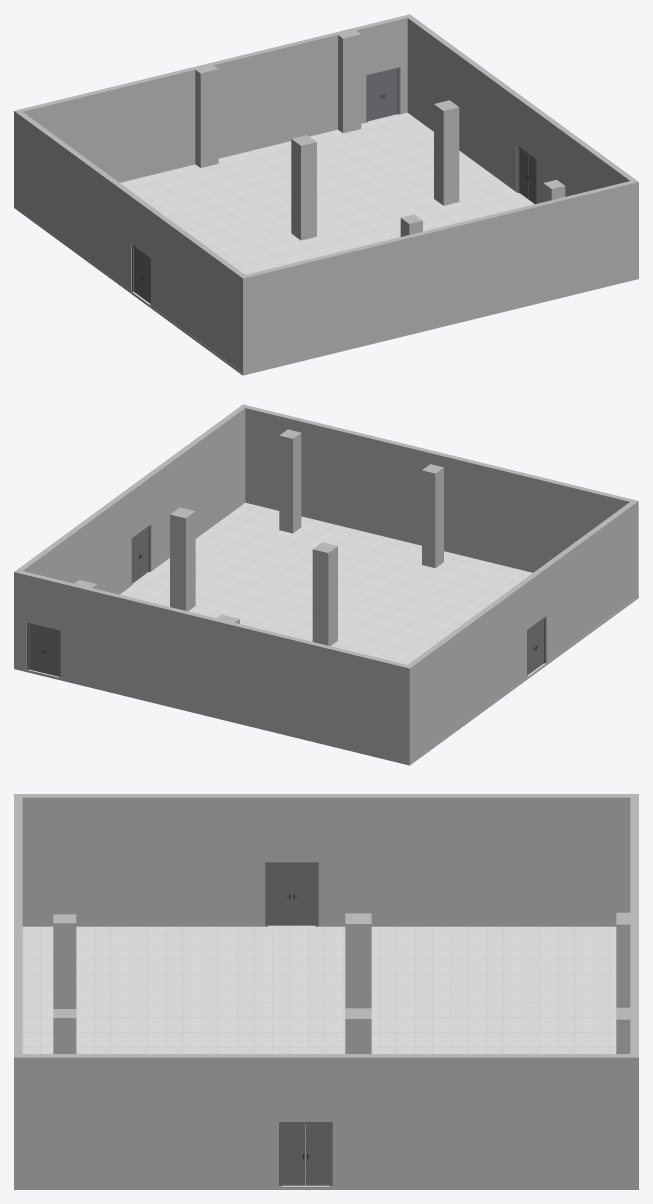
The model's file is floorFourChilder.FBX.
3 renders of one model, top to bottom at view 1: azimuth 30°, elevation 25°; view 2: azimuth 150°, elevation 25°; view 3: azimuth 270°, elevation 25°, orthographic. The views are drawn at different scales.
Visible parts, largest first — view 1: Line005, Line004, 对象, Line006, Rectangle271, Rectangle273, Rectangle274, Rectangle275, Line051, Rectangle276, Rectangle256, Rectangle269 (+2 smaller); view 2: Line005, Line004, 对象, Line006, Rectangle271, Rectangle273, Rectangle272, Rectangle270, Line051, Rectangle276, Rectangle256, Rectangle269 (+2 smaller); view 3: 对象, Line005, Line004, Line006, Rectangle269, Rectangle256, 左 (×2), Rectangle271, Line051, Rectangle270, 右, 右001 (+6 smaller).
Boxes of the visible parts, box(x1,y1,x2,y2) form: Line005: box(151, 111, 638, 373); Line004: box(14, 26, 366, 291); 对象: box(120, 112, 534, 372); Line006: box(397, 14, 521, 192); Rectangle271: box(291, 135, 316, 240); Rectangle273: box(434, 100, 459, 205); Rectangle274: box(338, 30, 361, 133); Rectangle275: box(195, 65, 218, 167); Line051: box(14, 206, 638, 375); Rectangle276: box(363, 17, 400, 75); Rectangle256: box(516, 96, 541, 158); Rectangle269: box(131, 195, 155, 257); Line005: box(146, 404, 638, 662); Line004: box(60, 581, 526, 763); 对象: box(27, 502, 637, 677); Line006: box(14, 490, 131, 669); Rectangle271: box(312, 542, 337, 645); Rectangle273: box(170, 507, 195, 611); Rectangle272: box(279, 429, 301, 533); Rectangle270: box(422, 464, 443, 568); Line051: box(14, 596, 638, 765); Rectangle276: box(26, 573, 63, 630); Rectangle256: box(126, 475, 151, 537); Rectangle269: box(522, 567, 546, 629); 对象: box(22, 925, 616, 1186); Line005: box(14, 794, 278, 1186); Line004: box(318, 794, 638, 1026); Line006: box(332, 1049, 638, 1186); Rectangle269: box(265, 794, 318, 862); Rectangle256: box(279, 1054, 332, 1121); 左 (×2): box(282, 864, 315, 1185); Rectangle271: box(345, 913, 371, 1008); Line051: box(14, 1186, 638, 1189); Rectangle270: box(53, 914, 76, 1008); 右: box(268, 864, 291, 925); 右001: box(306, 1124, 329, 1185).
Bounding box in the file's own units: 17509 × 4100 × 17541.
Materials: 4 (1 with a texture image).
